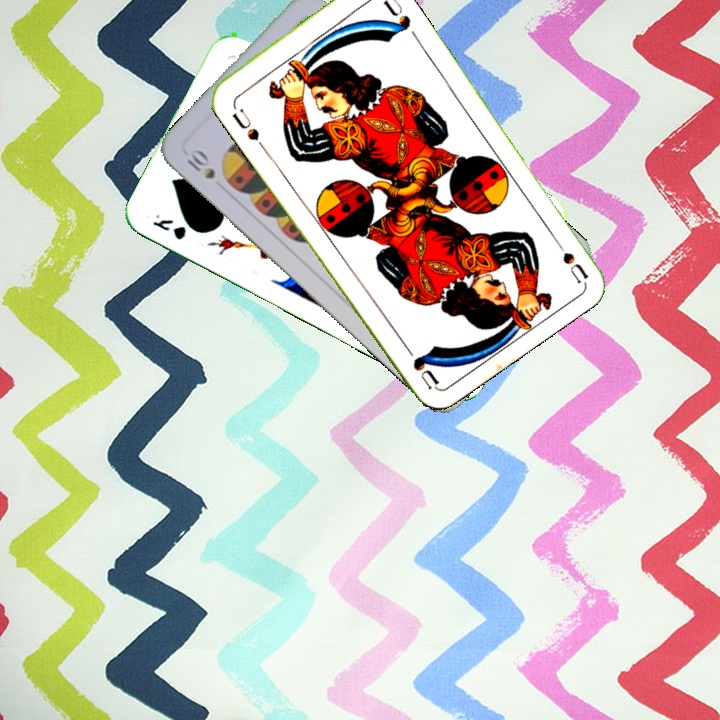GK: (148, 210, 189, 243)
S10: (182, 145, 218, 182)
SU: (547, 230, 590, 285), (228, 104, 262, 143)
